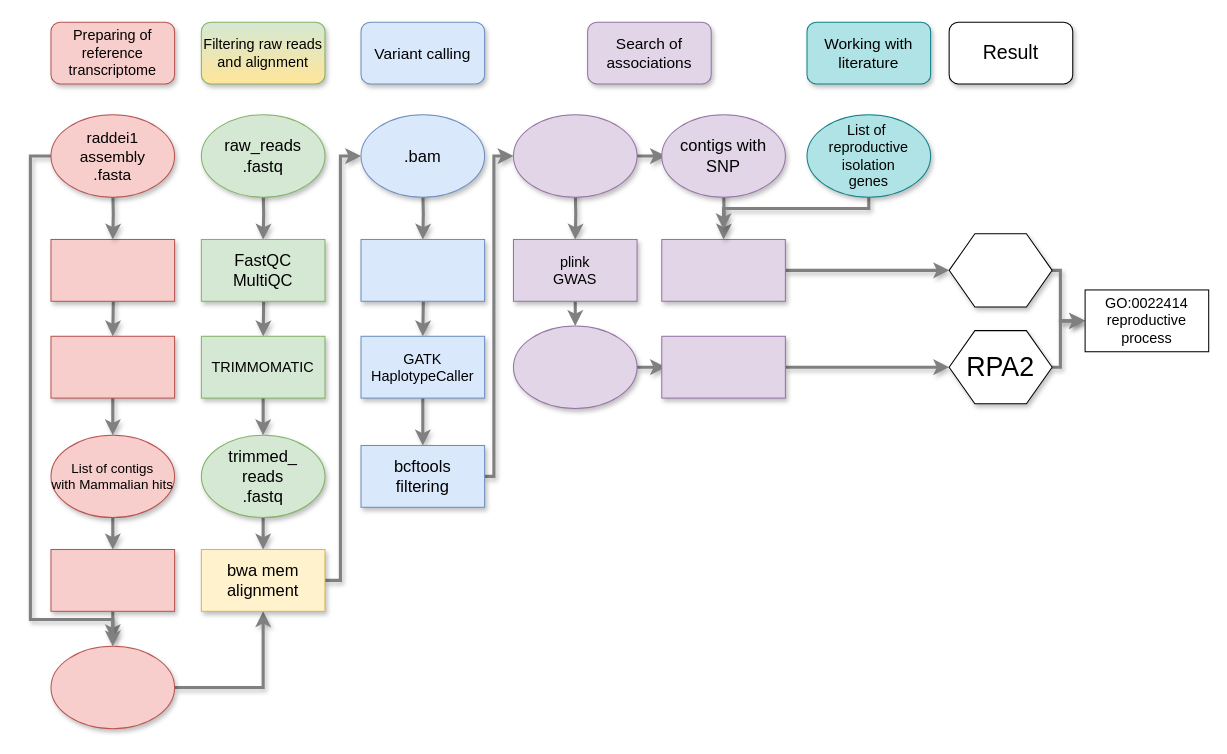
Some shapes in this 1227 by 754 pixel diagram are drawn without their labels. Here are the shapes that lost their labels. From the top down, the centre of each, then its label:
At (575,157): ".vcf".
At (113,271): "Diamond BLASTx vs nr NCBI".
At (423,271): "picard MarkDuplicates".
At (724,271): "BLAST vs selected genes".
At (1001,271): "Bag6".
At (113,368): "diamond_ add_taxonomy".
At (575,368): "contigs with highest p-value SNP".
At (724,368): "GO terms annotation".
At (113,581): "samtools extract contigs with Mammalian hits".
At (113,688): "reference .fasta".
